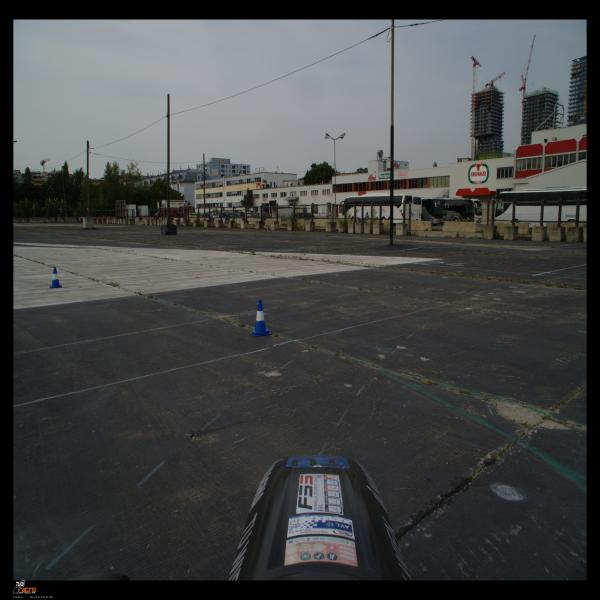blue_cone: (250, 300, 271, 337), (49, 267, 62, 288)
